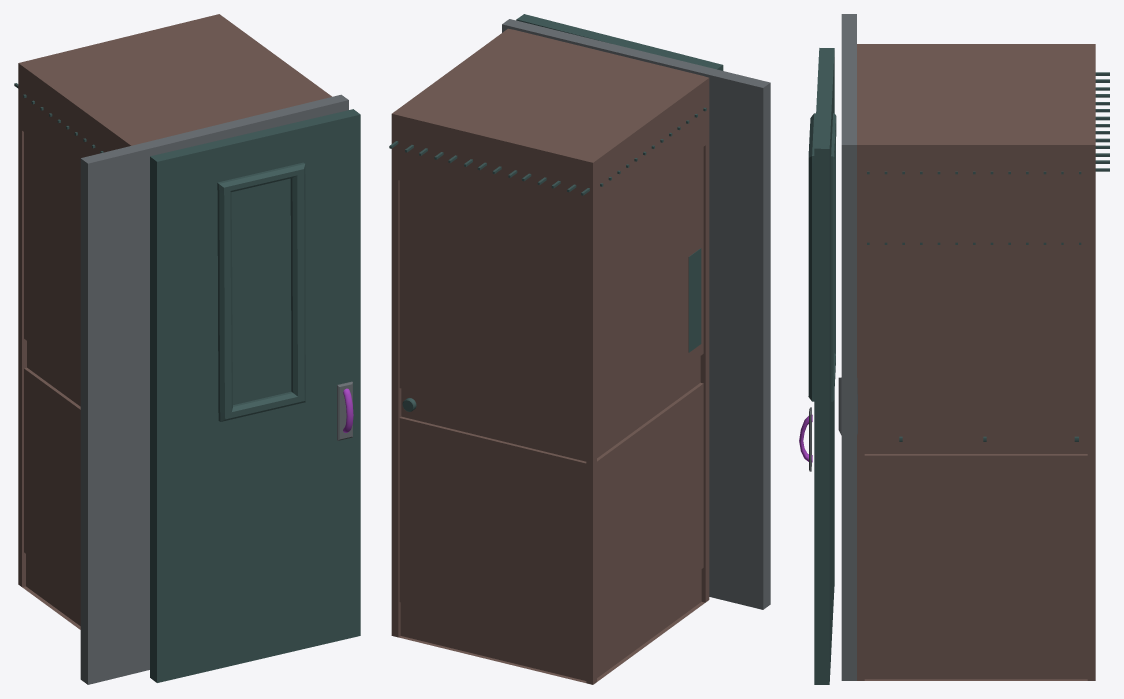
The model's file is ascensor.fbx.
3 renders of one model, left to right at view 1: azimuth 30°, elevation 25°; view 2: azimuth 150°, elevation 25°; view 3: azimuth 270°, elevation 25°, orthographic. The views are drawn at different scales.
Visible parts, largest first — view 1: polySurface32, cabinaascensor, polySurface16, polySurface33; view 2: cabinaascensor, polySurface16, polySurface32, pCube32, rejatecho3; view 3: cabinaascensor, polySurface32, polySurface16, rejatecho3.
Part boxes in pixels (x1,y1,x2,y2): polySurface32: (150, 109, 360, 682); cabinaascensor: (18, 14, 331, 629); polySurface16: (80, 94, 348, 684); polySurface33: (337, 381, 352, 440); cabinaascensor: (391, 28, 709, 684); polySurface16: (502, 19, 770, 609); polySurface32: (516, 14, 723, 70); pCube32: (688, 248, 701, 352); rejatecho3: (389, 107, 706, 195); cabinaascensor: (857, 44, 1095, 680); polySurface32: (808, 48, 836, 684); polySurface16: (838, 14, 857, 680); rejatecho3: (867, 72, 1109, 244).
Bounding box in the file's own units: 117 × 225 × 117.
